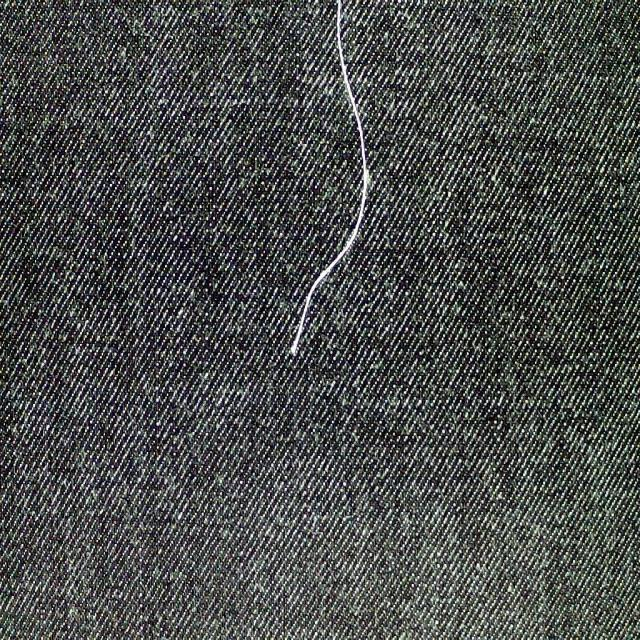Thread: (286, 0, 374, 359)
